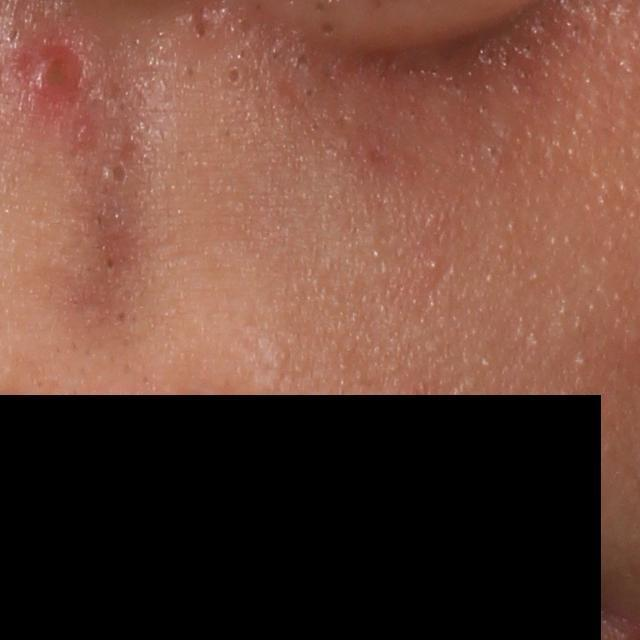comedo: (216, 60, 248, 92), (319, 19, 338, 37), (425, 255, 442, 272)
papule: (23, 44, 85, 105)
